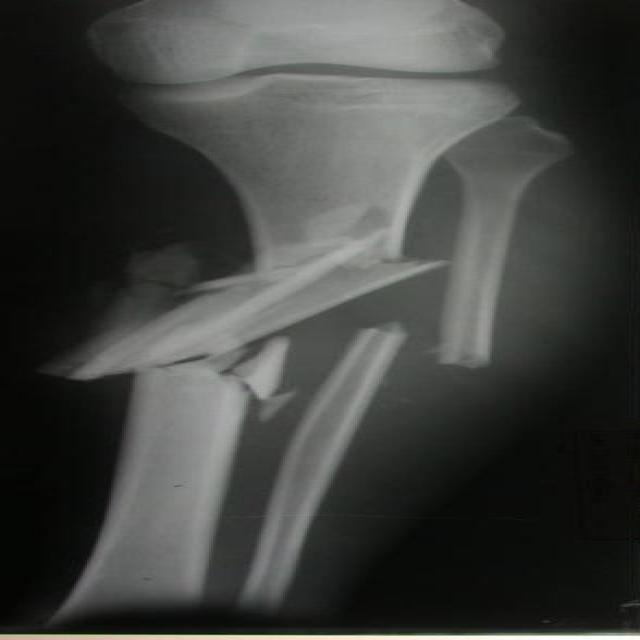comminuted: (58, 223, 534, 419)
